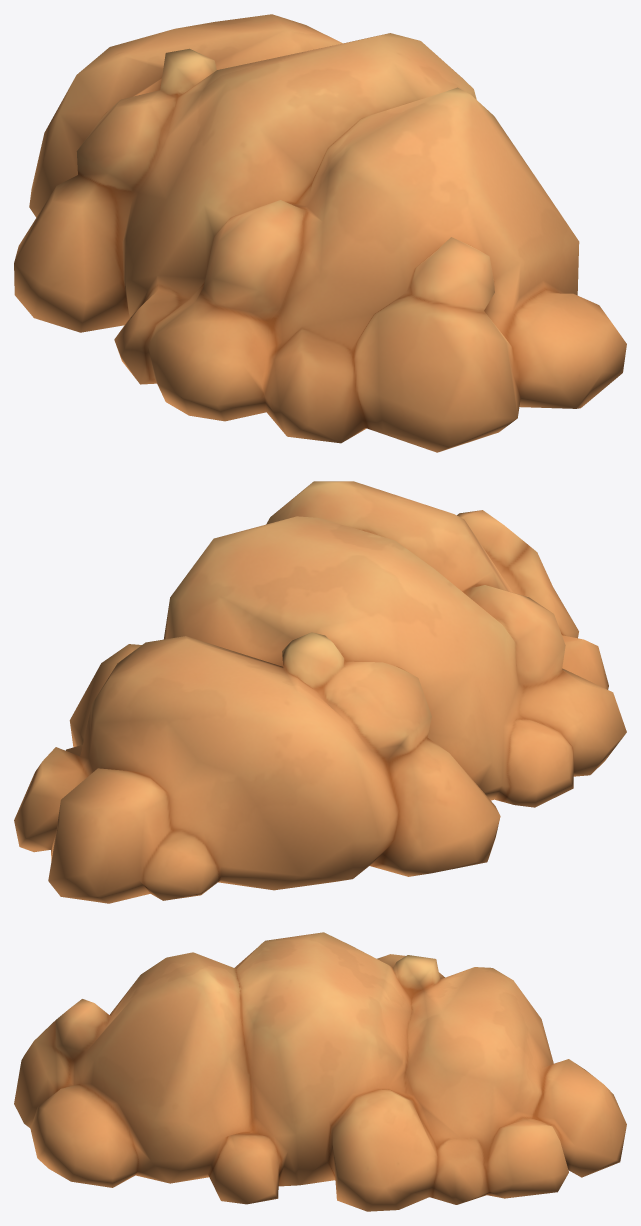
Rendered from rock_4.fbx.
3 views of the same model, one above another, from view 1: azimuth 30°, elevation 25°; view 2: azimuth 150°, elevation 25°; view 3: azimuth 270°, elevation 25° (orthographic). The views are drawn at different scales.
Parts seen in each view (by area): view 1: Rock_4_LOD0; view 2: Rock_4_LOD0; view 3: Rock_4_LOD0.
Boxes of the visible parts, x1,y1,x2,y2 form: Rock_4_LOD0: (14,14,626,452); Rock_4_LOD0: (14,481,626,903); Rock_4_LOD0: (14,932,626,1211).
Size of what is drawn, in the model's own units: 224 by 118 by 349.
